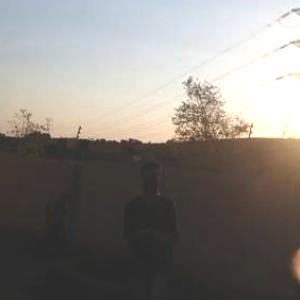follow: (117, 154, 183, 299)
